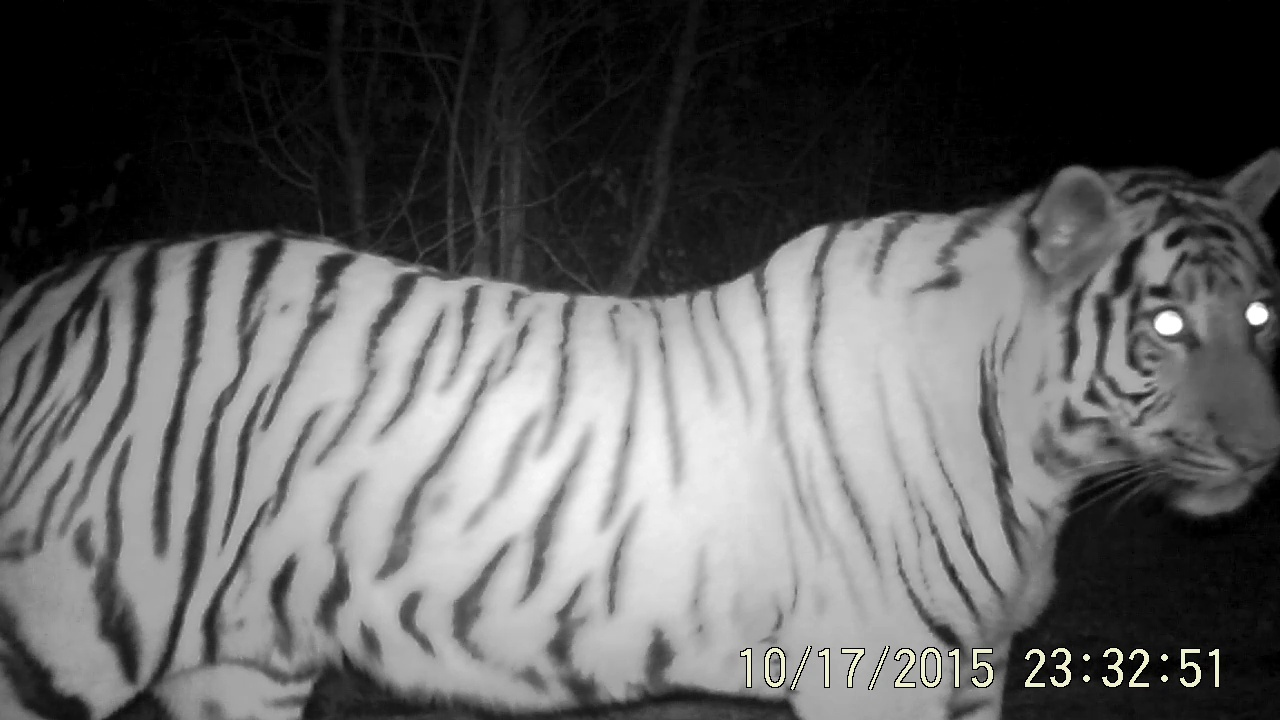Tiger: (2, 24, 1280, 720)
